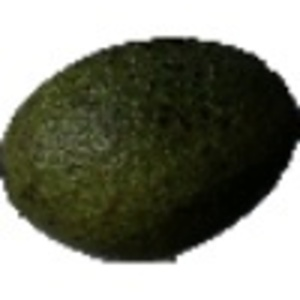abacate: (1, 34, 298, 267)
